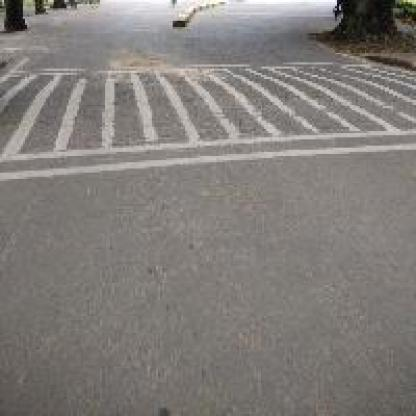Speed Bump: (2, 60, 406, 179)
